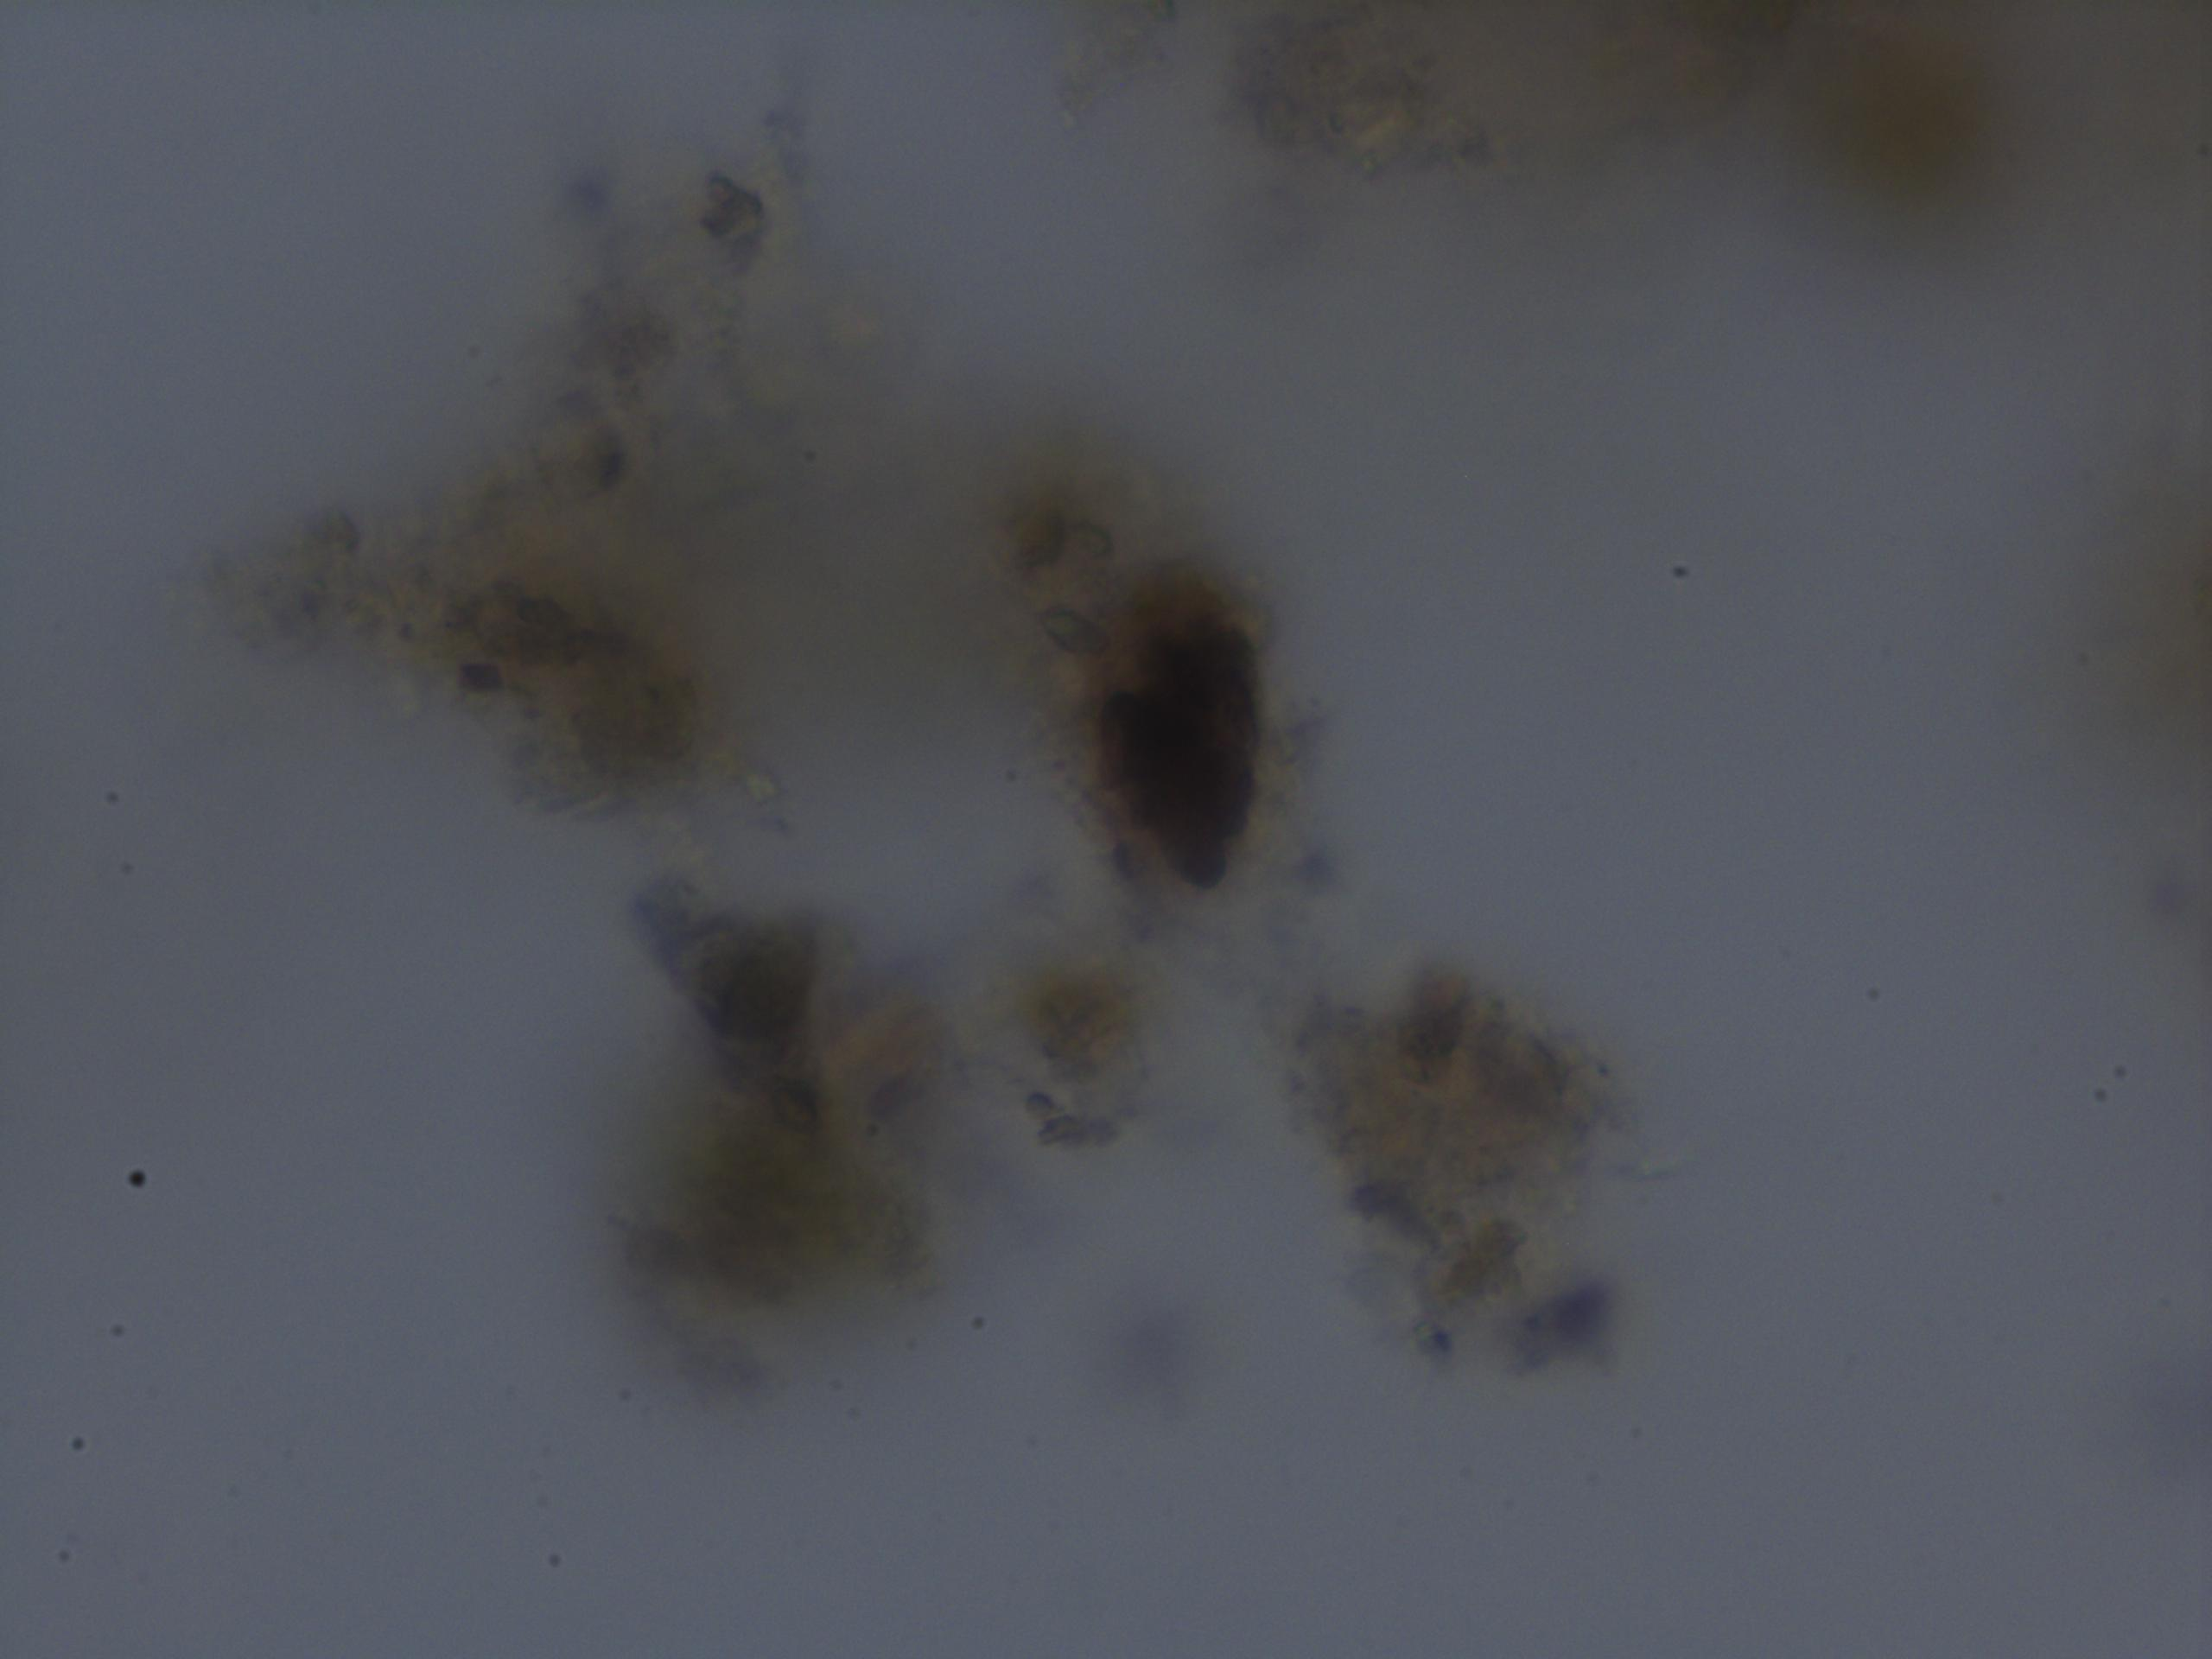open_floc: (202, 108, 1667, 1429)
